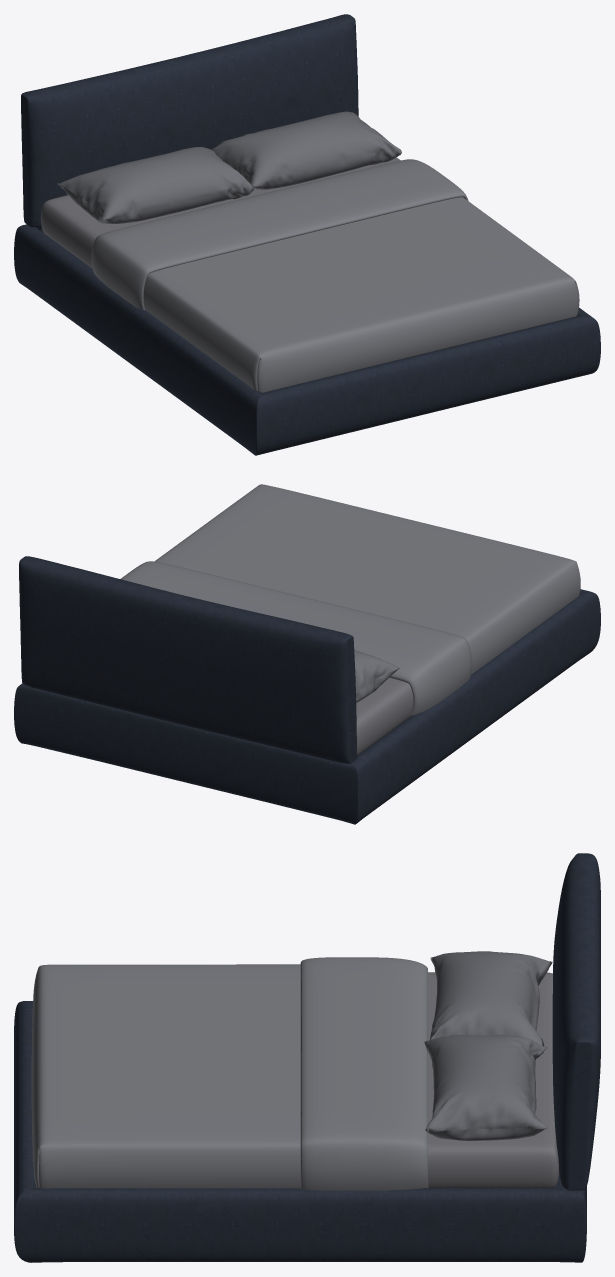
Rendered from objaverse-soho-bed.optimized.glb.
The picture shows the model from 3 angles, top to bottom: view 1: azimuth 30°, elevation 25°; view 2: azimuth 150°, elevation 25°; view 3: azimuth 270°, elevation 25°; orthographic projection. The views are drawn at different scales.
Visible parts, largest first — view 1: Object_2, Object_3, Object_5, Object_4; view 2: Object_2, Object_3, Object_4, Object_5; view 3: Object_3, Object_2, Object_5, Object_4.
Part boxes in pixels (x1,y1,x2,y2): Object_2: (14,14,600,455); Object_3: (91,159,579,392); Object_5: (57,111,401,223); Object_4: (40,157,400,268); Object_2: (14,556,600,824); Object_3: (120,484,580,715); Object_4: (356,678,413,755); Object_5: (354,650,399,702); Object_3: (31,957,428,1190); Object_2: (14,853,600,1262); Object_5: (424,951,552,1140); Object_4: (428,972,559,1187).
Size of the model in its own units: 1.8 by 0.9385 by 2.25.
Materials: 4 (1 with a texture image).
